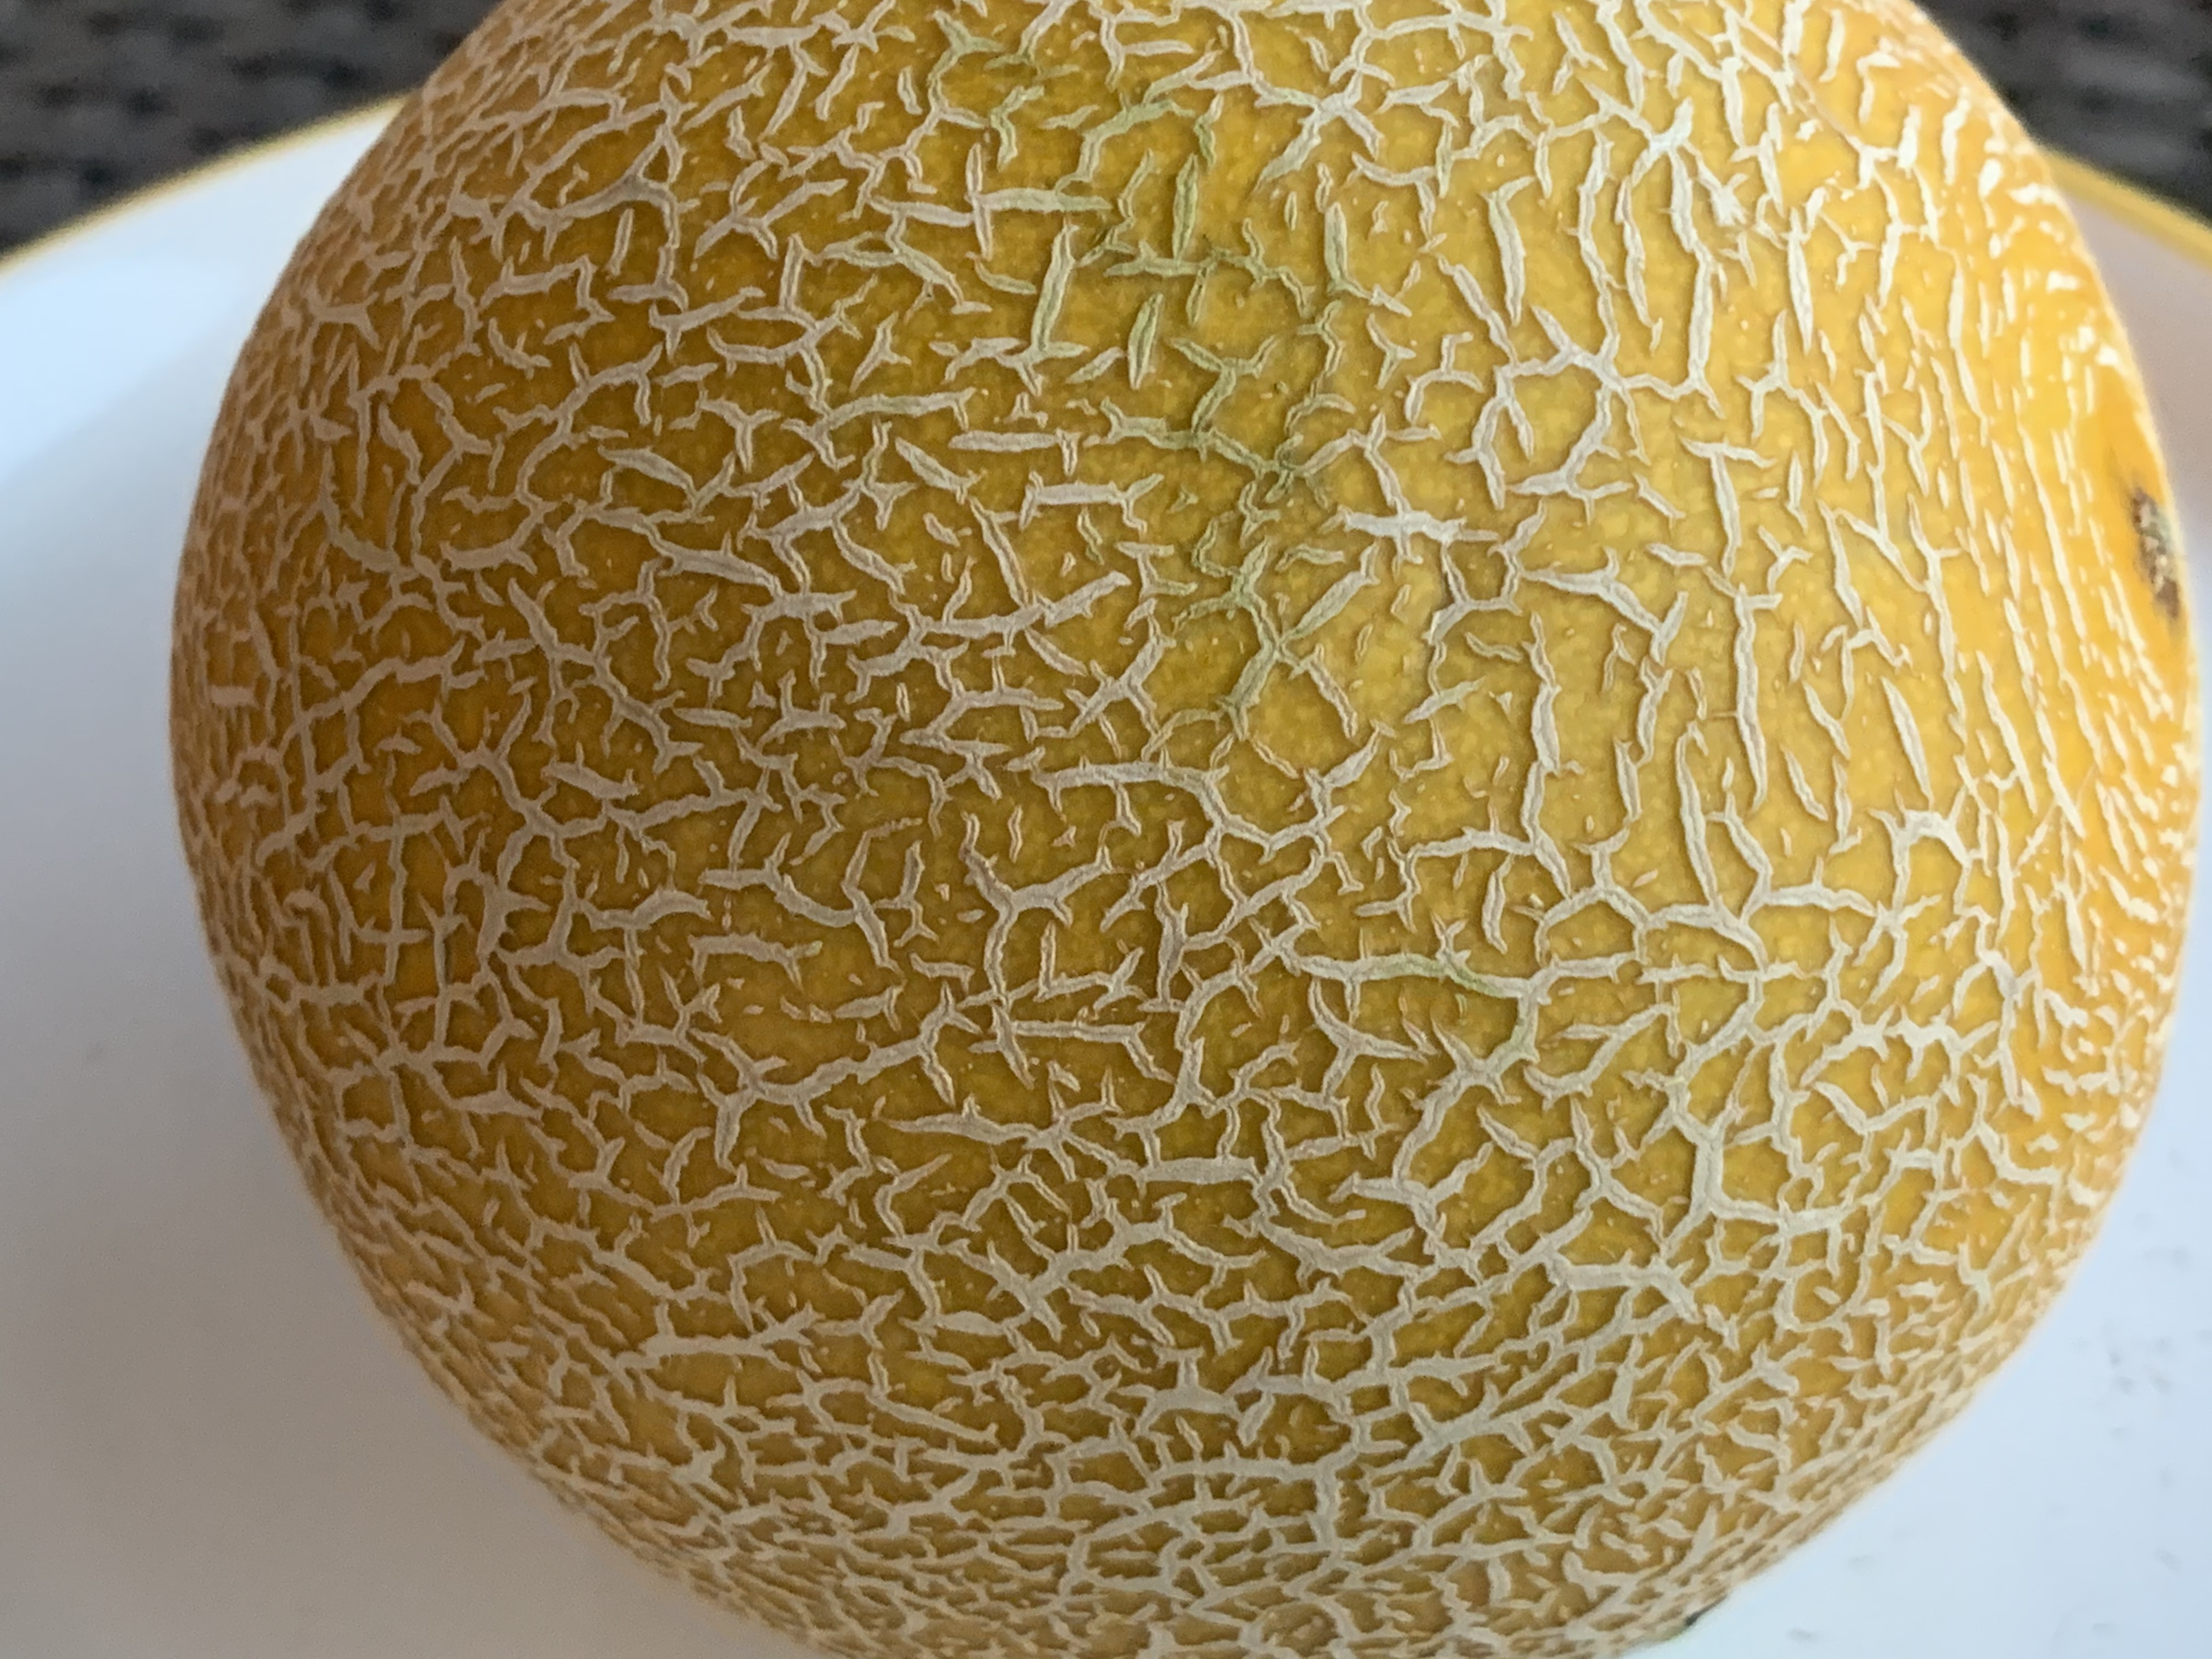galia melon: (42, 26, 2212, 1626)
